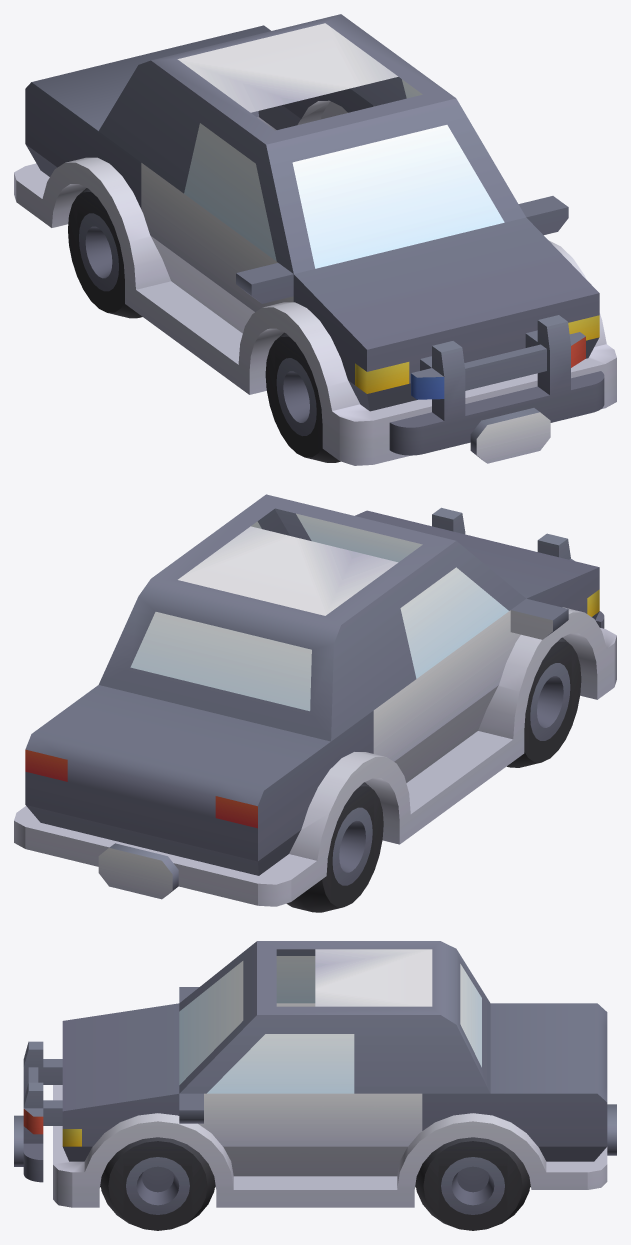
The model's file is cinder.glb.
The picture shows the model from 3 angles, top to bottom: view 1: azimuth 30°, elevation 25°; view 2: azimuth 150°, elevation 25°; view 3: azimuth 270°, elevation 25°; orthographic projection. The views are drawn at different scales.
Visible parts, largest first — view 1: body, grill, wheel_fr, wheel_rr; view 2: body, wheel_rr, wheel_fr, grill; view 3: body, wheel_rl, wheel_fl, grill.
Boxes of the visible parts, x1=… form: body: x1=14, y1=14, x2=616, y2=465; grill: x1=389, y1=315, x2=604, y2=463; wheel_fr: x1=265, y1=332, x2=340, y2=462; wheel_rr: x1=68, y1=188, x2=142, y2=318; body: x1=14, y1=494, x2=616, y2=906; wheel_rr: x1=286, y1=782, x2=383, y2=912; wheel_fr: x1=507, y1=637, x2=581, y2=767; grill: x1=432, y1=507, x2=604, y2=628; body: x1=53, y1=941, x2=616, y2=1207; wheel_rl: x1=415, y1=1137, x2=530, y2=1230; wheel_fl: x1=100, y1=1137, x2=215, y2=1230; grill: x1=14, y1=1041, x2=62, y2=1182.
Bounding box in the file's own units: 2.4 × 1.92 × 4.95.
Materials: 1 (1 with a texture image).
